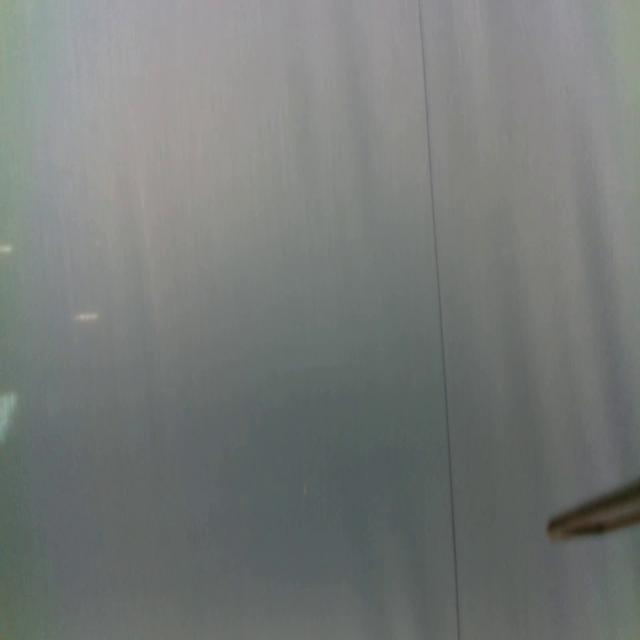crease: (416, 1, 464, 640)
